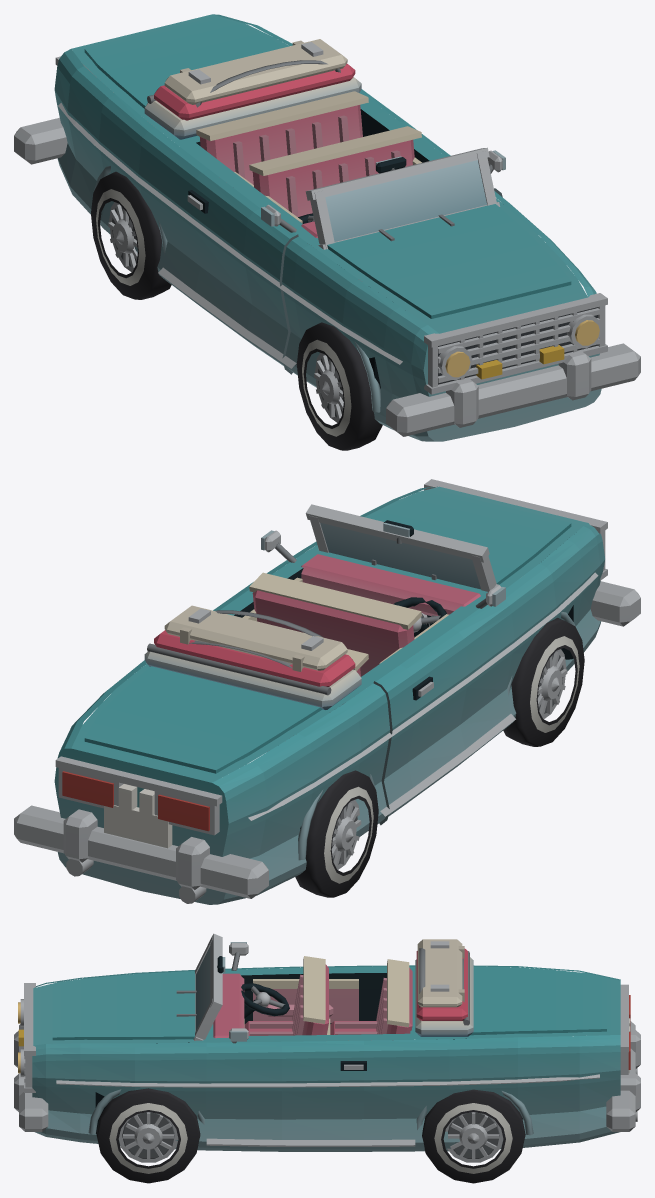
The model's file is convertible_cruiser.glb.
The picture shows the model from 3 angles, top to bottom: view 1: azimuth 30°, elevation 25°; view 2: azimuth 150°, elevation 25°; view 3: azimuth 270°, elevation 25°; orthographic projection. The views are drawn at different scales.
Parts seen in each view (by area): view 1: convertible_cruiser; view 2: convertible_cruiser; view 3: convertible_cruiser.
Boxes of the visible parts, bbox=[...] form: convertible_cruiser: bbox=[14, 14, 640, 450]; convertible_cruiser: bbox=[14, 479, 640, 904]; convertible_cruiser: bbox=[14, 933, 640, 1183].
Size of the model in its own units: 1.09 by 0.972 by 3.08.
